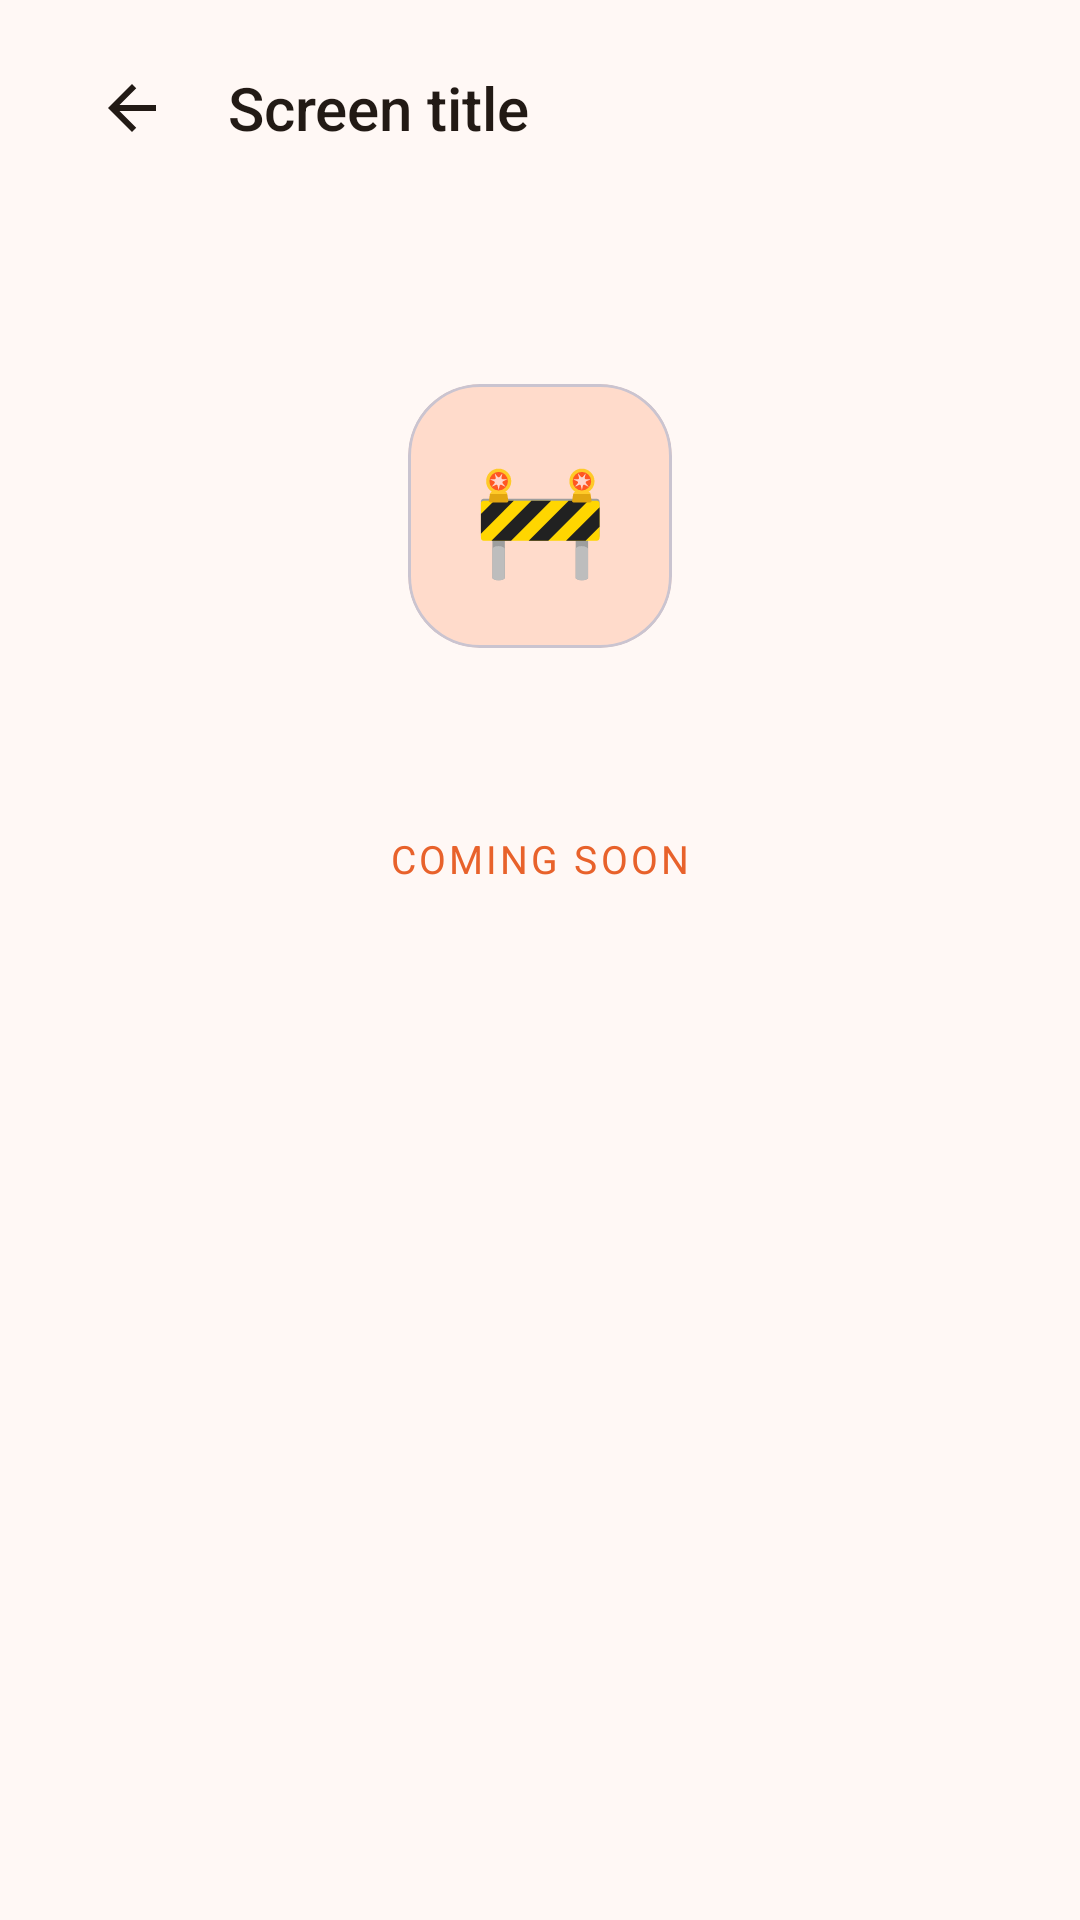

Icons on this 1080w x 1920h Android screen, each with the point to tap as [x,y]:
Back: [132,108]
